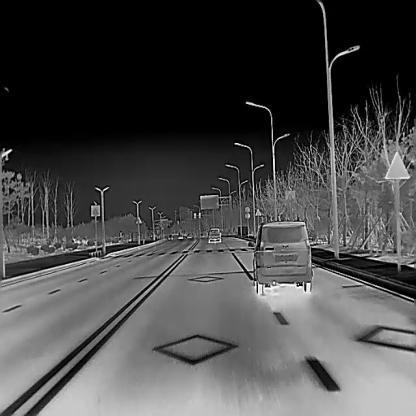car: (246, 220, 313, 295), (207, 225, 222, 243), (167, 233, 173, 240), (178, 234, 184, 239), (187, 234, 192, 238)
